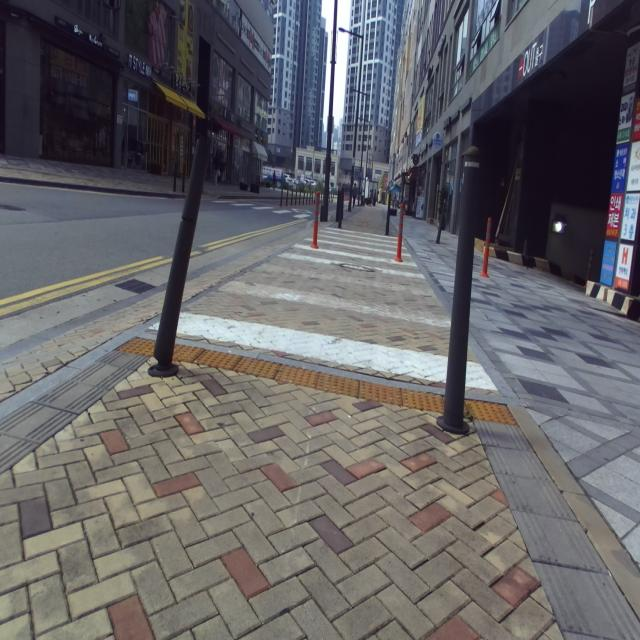횡단보도: (148, 227, 498, 391)
